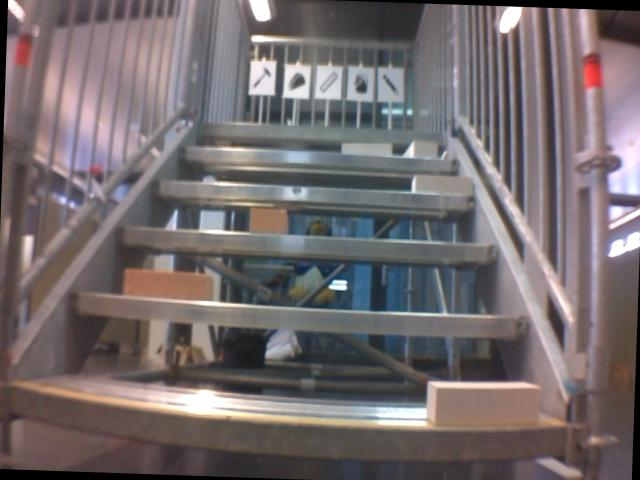brick: (427, 379, 542, 428), (122, 269, 213, 301), (409, 174, 472, 194), (249, 207, 289, 234), (341, 141, 390, 156), (405, 139, 436, 157)
bucket: (350, 70, 372, 94)
edge: (6, 386, 567, 465), (70, 293, 528, 339), (115, 226, 501, 262), (153, 181, 474, 209), (177, 145, 458, 172), (199, 121, 446, 142)
hammer: (250, 64, 273, 92)
pencil: (379, 71, 402, 98)
ruler: (319, 68, 341, 96)
steps: (2, 112, 580, 473)
taco: (286, 67, 307, 94)
